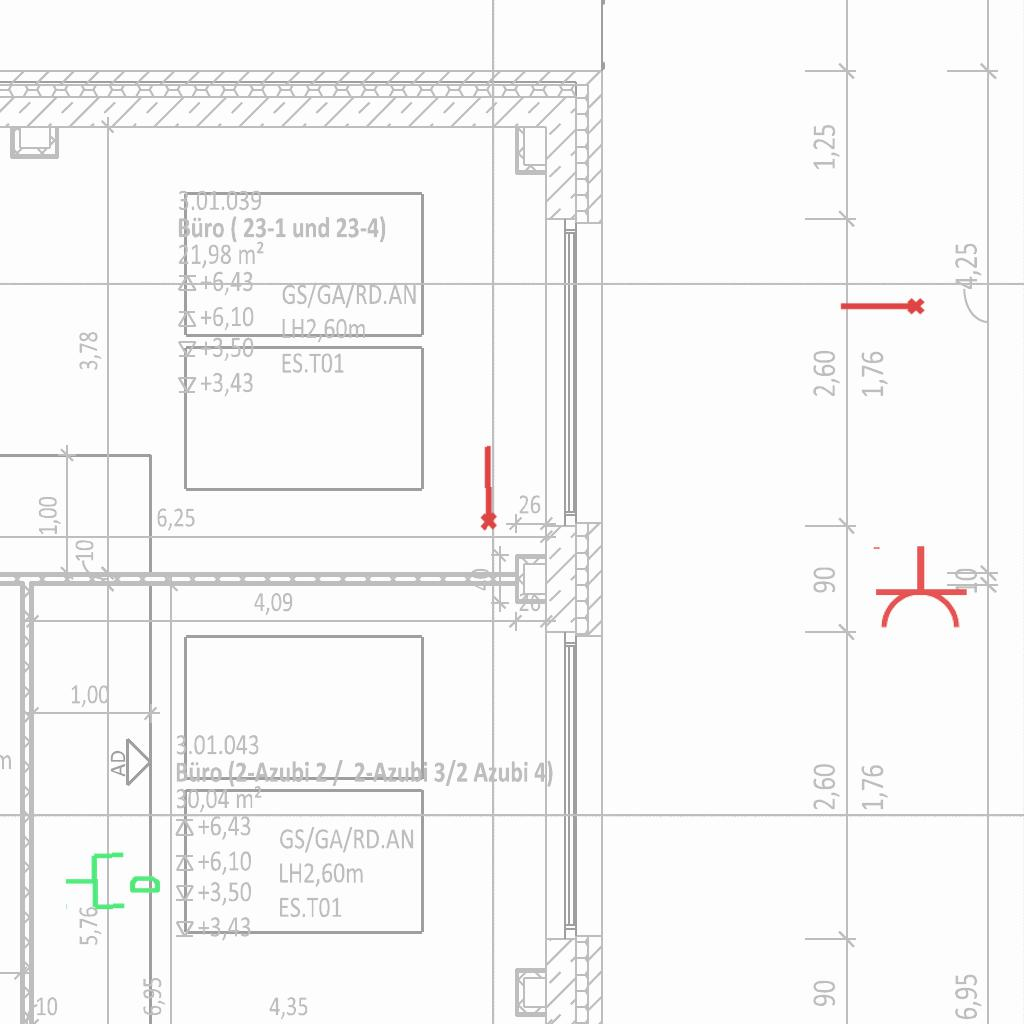ASR_Ansaugoeffnung: (474, 443, 500, 532), (838, 296, 926, 319)
Datenanschluss_einfach: (61, 843, 164, 915)
Schukosteckdose_einfach: (869, 544, 969, 631)
